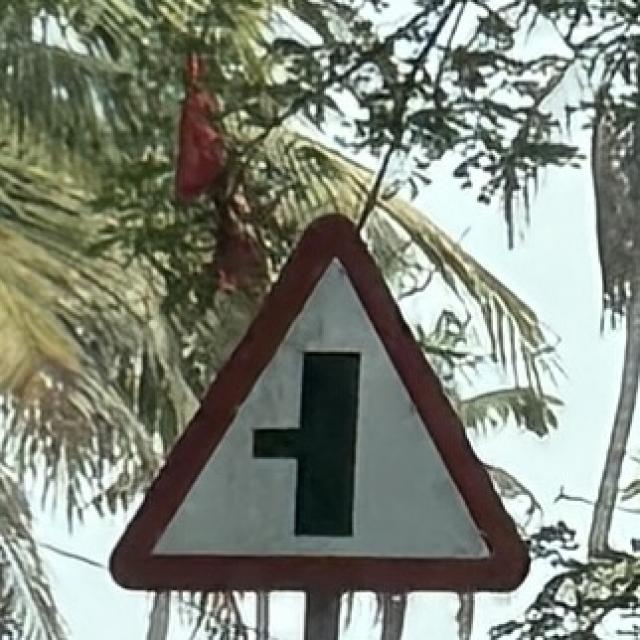SIDE_ROAD_LEFT: (94, 205, 535, 600)
